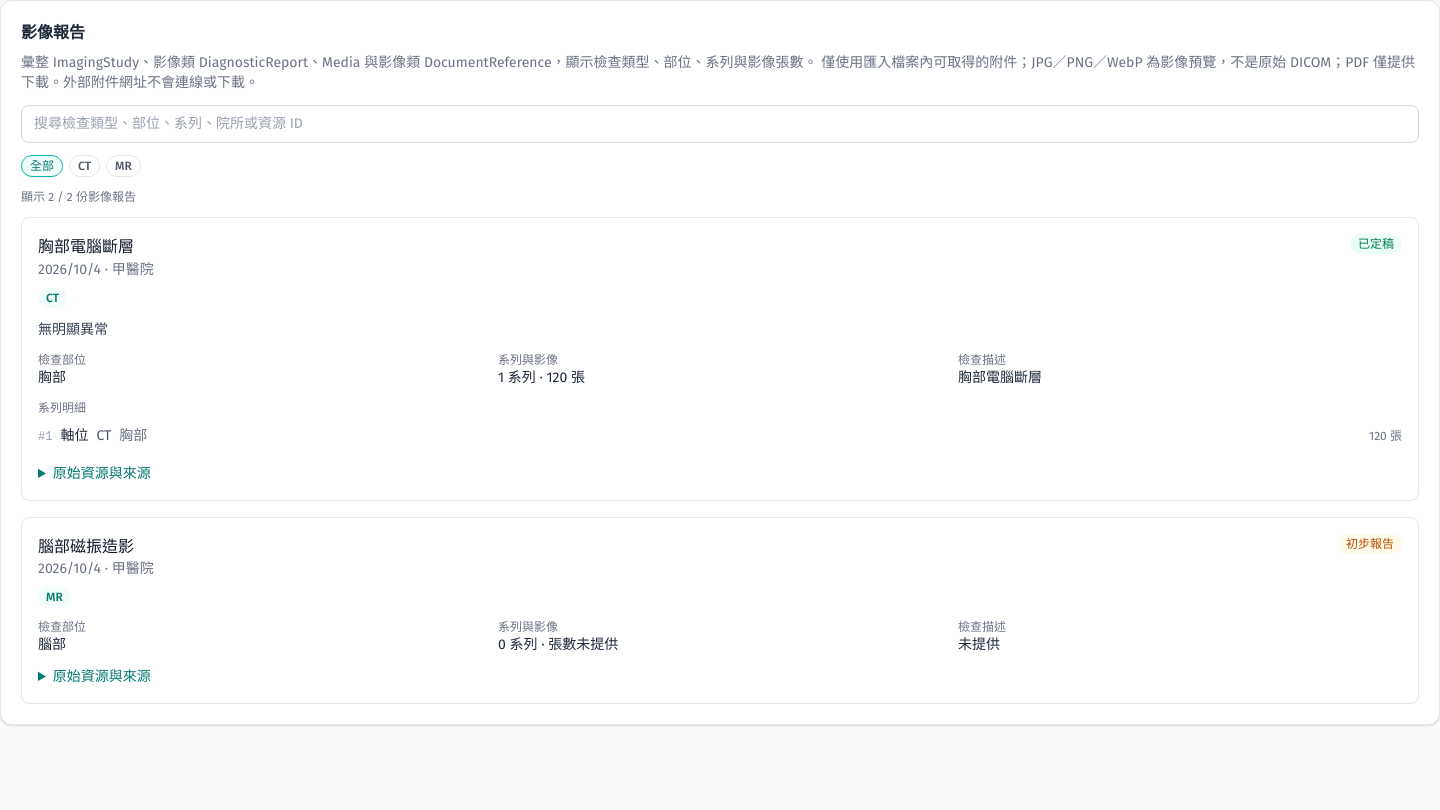
Test: ImagingReportList › filters by search text and imaging modality
In the field named "搜尋影像報告": (720, 124) [21, 105, 1419, 143], type "磁振"
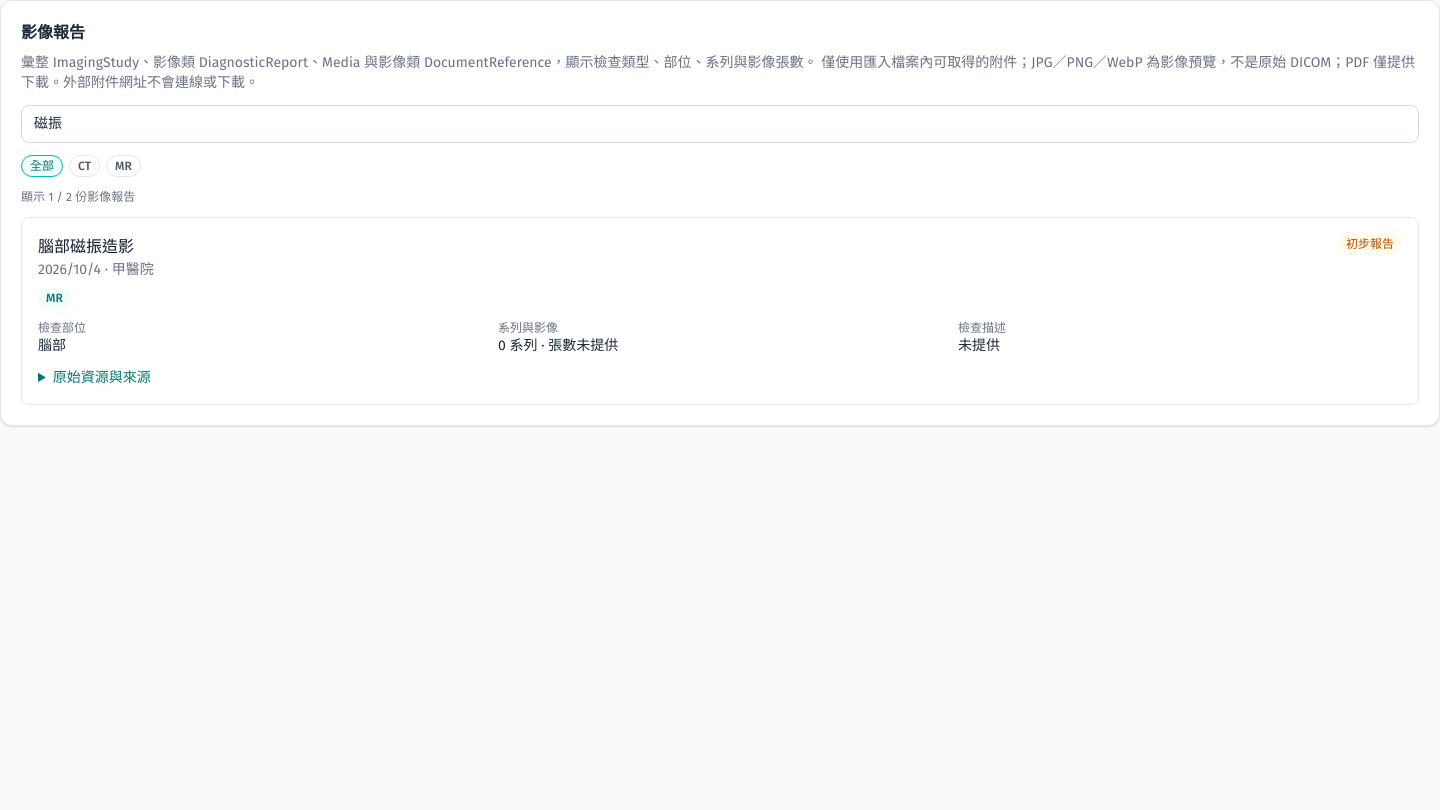
Expected: the heading "腦部磁振造影" is shown, [38, 237, 134, 256]
Expected: the heading "胸部電腦斷層" is gone
Click the button "CT": (85, 166) [69, 155, 100, 177]
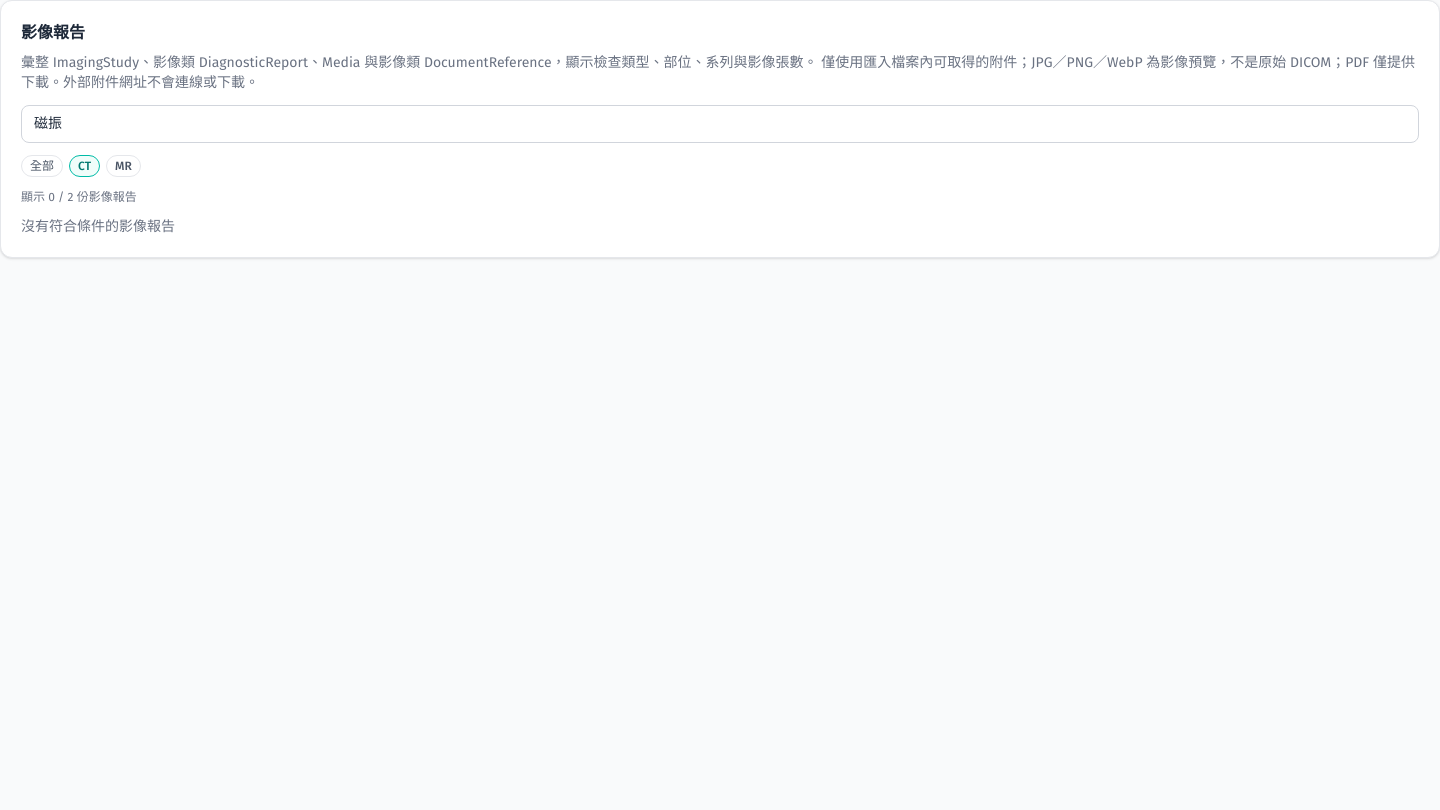
Expected: the text "沒有符合條件的影像報告" is shown, [21, 218, 175, 235]
Clear the field named "搜尋影像報告": (720, 124) [21, 105, 1419, 143]
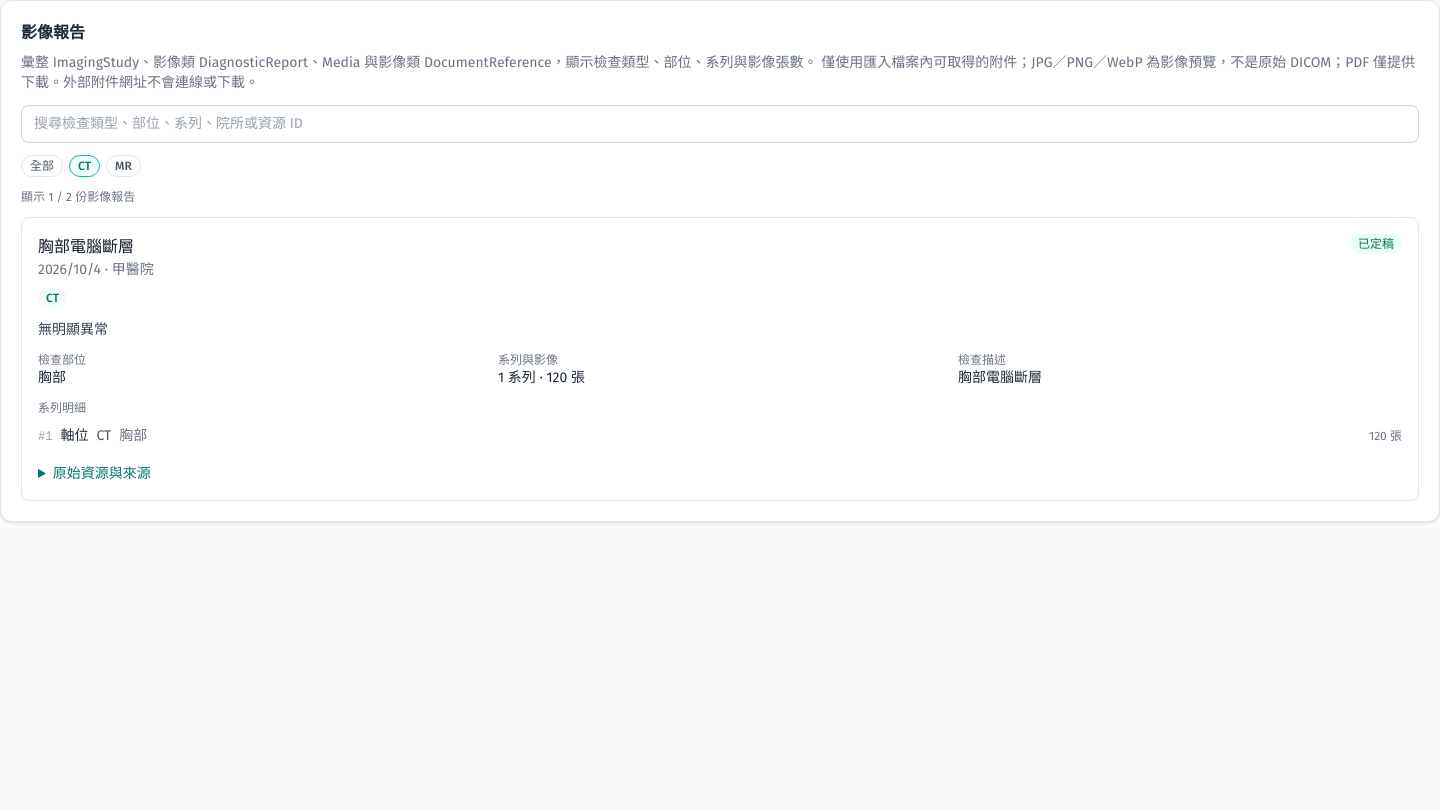
Expected: the heading "腦部磁振造影" is not shown
Expected: the heading "胸部電腦斷層" is shown, [38, 237, 134, 256]
